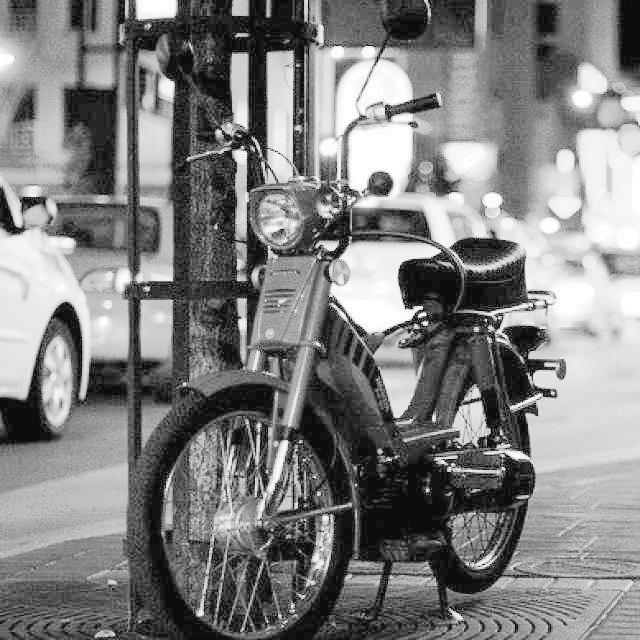Car: (320, 139, 508, 346), (41, 159, 204, 365), (0, 159, 103, 424)
Motorcycle: (160, 94, 565, 631)
